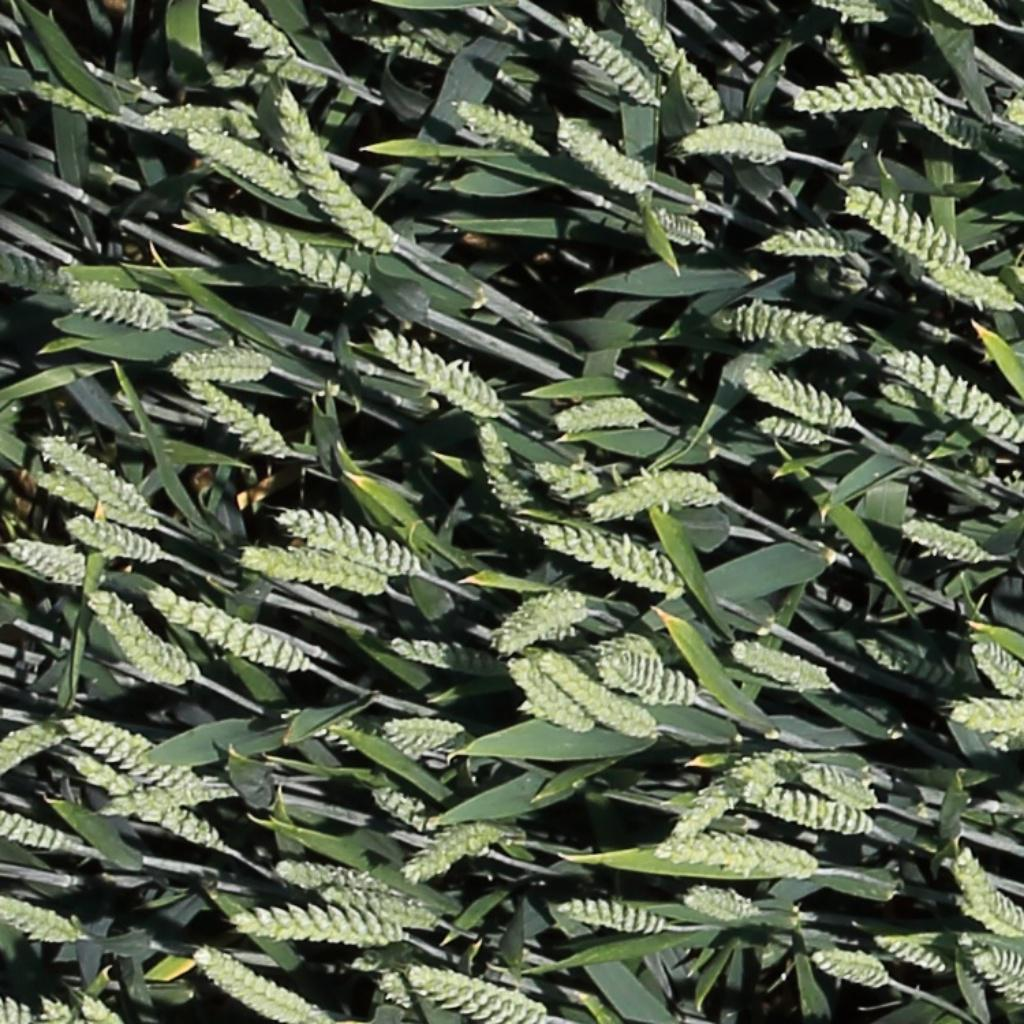0-0: (270, 83, 407, 254), (651, 744, 813, 857), (68, 743, 221, 851), (199, 206, 372, 298), (618, 0, 726, 129), (884, 349, 1024, 441), (272, 702, 463, 767), (151, 592, 307, 671), (61, 716, 220, 793), (372, 330, 502, 416), (191, 948, 336, 1024), (93, 586, 200, 688), (846, 184, 968, 270), (536, 653, 648, 740), (539, 525, 682, 592), (275, 509, 421, 573), (408, 966, 569, 1024), (221, 899, 411, 948), (561, 13, 656, 105), (36, 434, 143, 512), (182, 375, 283, 457), (55, 272, 176, 334), (237, 546, 387, 596), (583, 470, 721, 524), (651, 832, 816, 877), (718, 298, 860, 350), (795, 64, 935, 115), (185, 128, 294, 193), (948, 847, 1024, 940), (552, 116, 645, 189), (741, 785, 869, 835), (741, 368, 854, 424), (505, 660, 594, 731), (675, 120, 797, 167), (492, 591, 583, 649), (0, 712, 74, 778), (402, 828, 492, 882), (902, 90, 984, 147), (600, 655, 696, 703), (319, 888, 431, 929), (560, 895, 662, 938), (267, 864, 394, 898), (729, 644, 830, 686), (64, 517, 159, 561), (215, 1, 289, 57), (451, 98, 536, 146), (386, 640, 501, 675), (925, 262, 1014, 305), (1, 898, 80, 944), (472, 421, 521, 495), (554, 395, 647, 433), (798, 768, 876, 812), (367, 787, 438, 835), (476, 451, 527, 517), (901, 521, 985, 561), (746, 228, 854, 259), (4, 539, 84, 580), (0, 811, 76, 854), (965, 953, 1024, 1006), (974, 638, 1024, 700), (265, 51, 332, 97), (28, 79, 109, 117), (682, 886, 760, 925), (170, 352, 273, 381), (873, 932, 947, 972), (28, 469, 99, 510), (808, 950, 890, 985), (820, 25, 864, 90), (383, 716, 476, 746), (471, 413, 513, 477), (951, 695, 1024, 731), (139, 107, 231, 135), (0, 255, 73, 286), (372, 963, 415, 1015), (532, 460, 599, 492), (755, 416, 827, 445), (648, 207, 705, 243), (364, 34, 436, 62), (980, 944, 1024, 980), (817, 0, 887, 21), (942, 0, 999, 25), (73, 991, 114, 1024), (35, 993, 75, 1024), (1010, 95, 1024, 180), (1, 992, 31, 1022)
